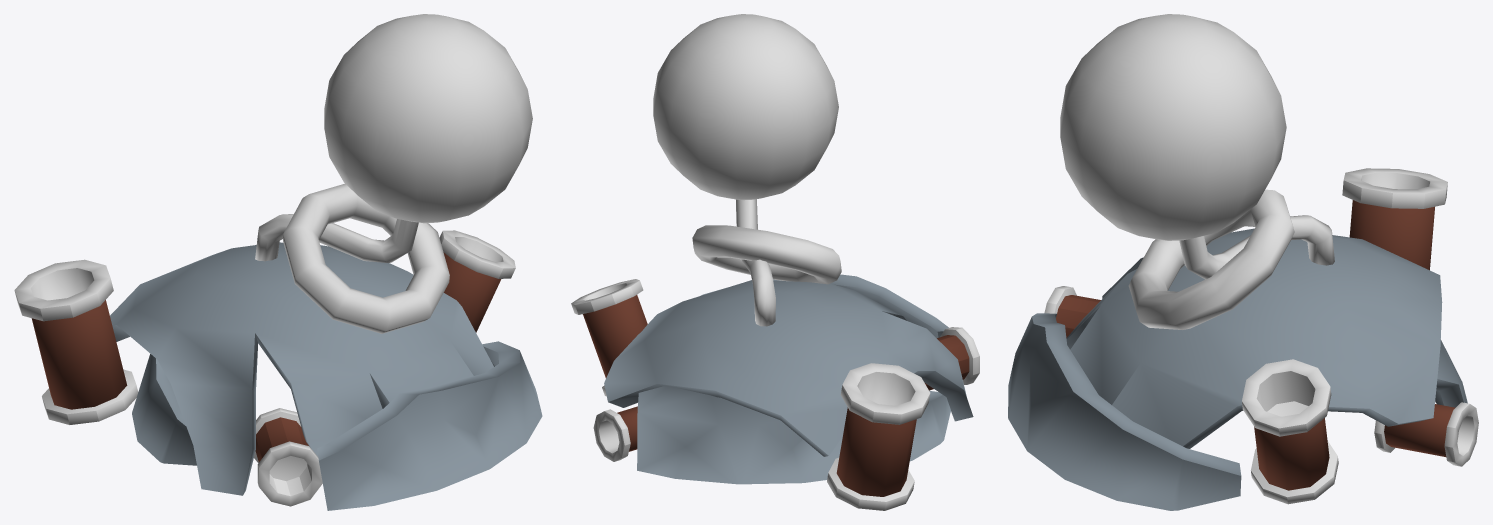
File: LightningBox.fbx
3 renders of one model, left to right at view 1: azimuth 30°, elevation 25°; view 2: azimuth 150°, elevation 25°; view 3: azimuth 270°, elevation 25°, orthographic. The views are drawn at different scales.
Parts seen in each view (by area): view 1: electricenemey; view 2: electricenemey; view 3: electricenemey.
Part boxes in pixels (x1,y1,x2,y2): electricenemey: [14, 14, 542, 510]; electricenemey: [571, 14, 979, 510]; electricenemey: [1008, 14, 1478, 510].
Bounding box in the file's own units: 302 × 263 × 258.
